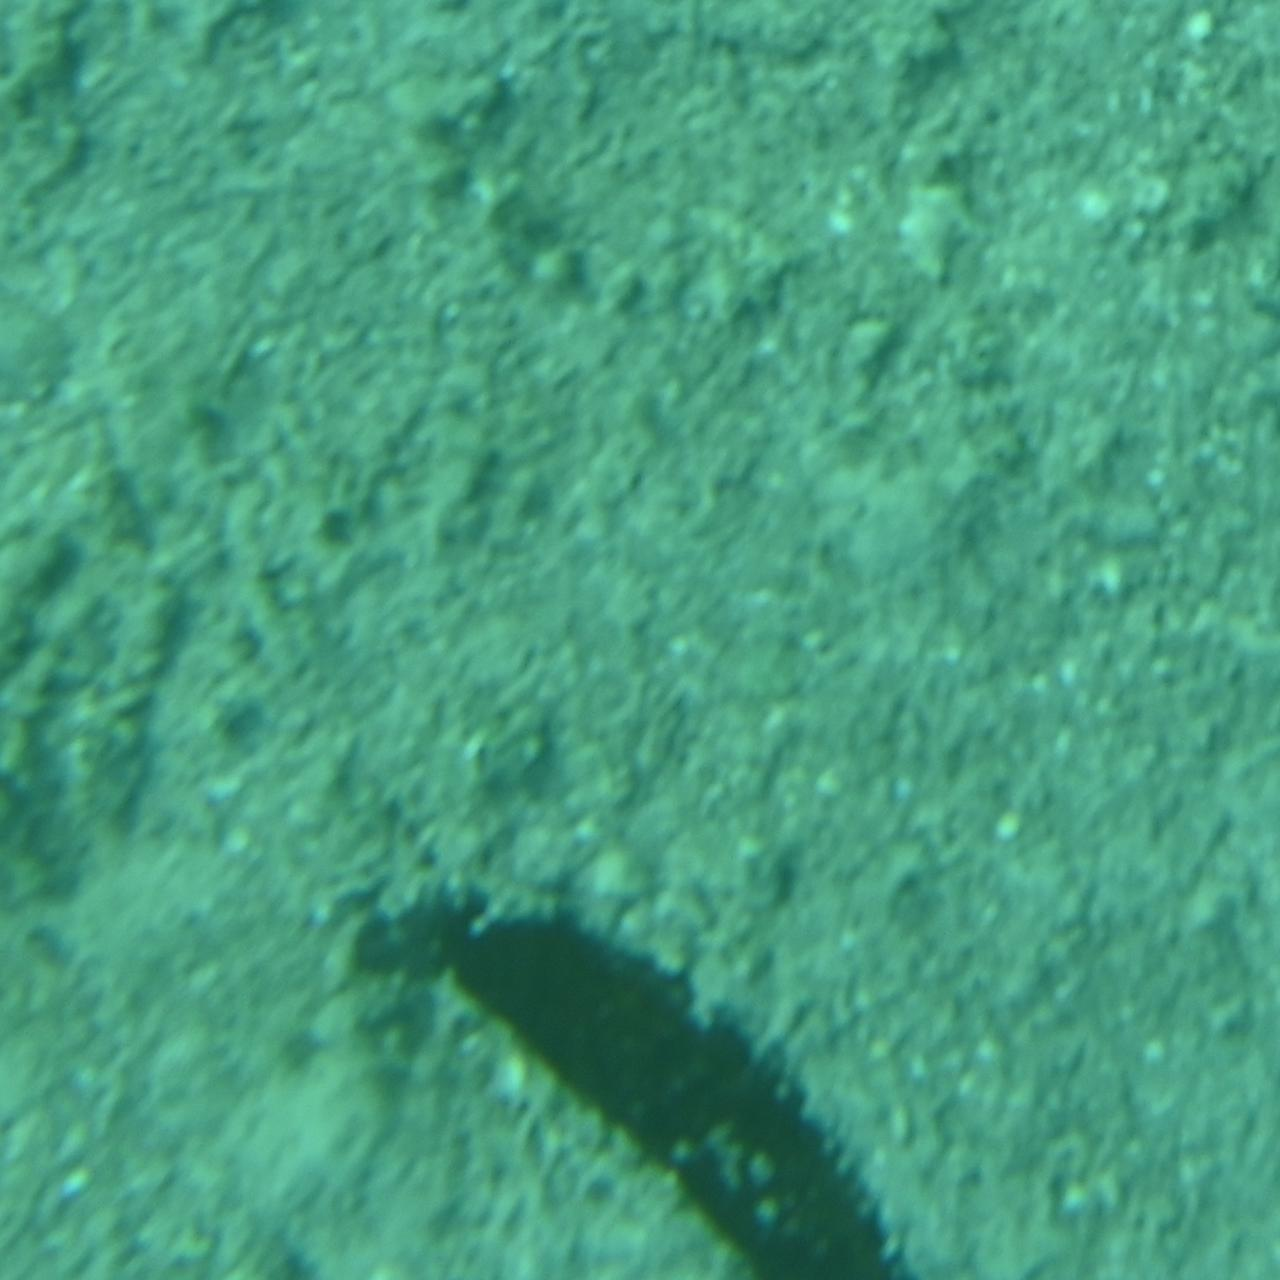Holothuria tubulosa: (336, 871, 944, 1279)
